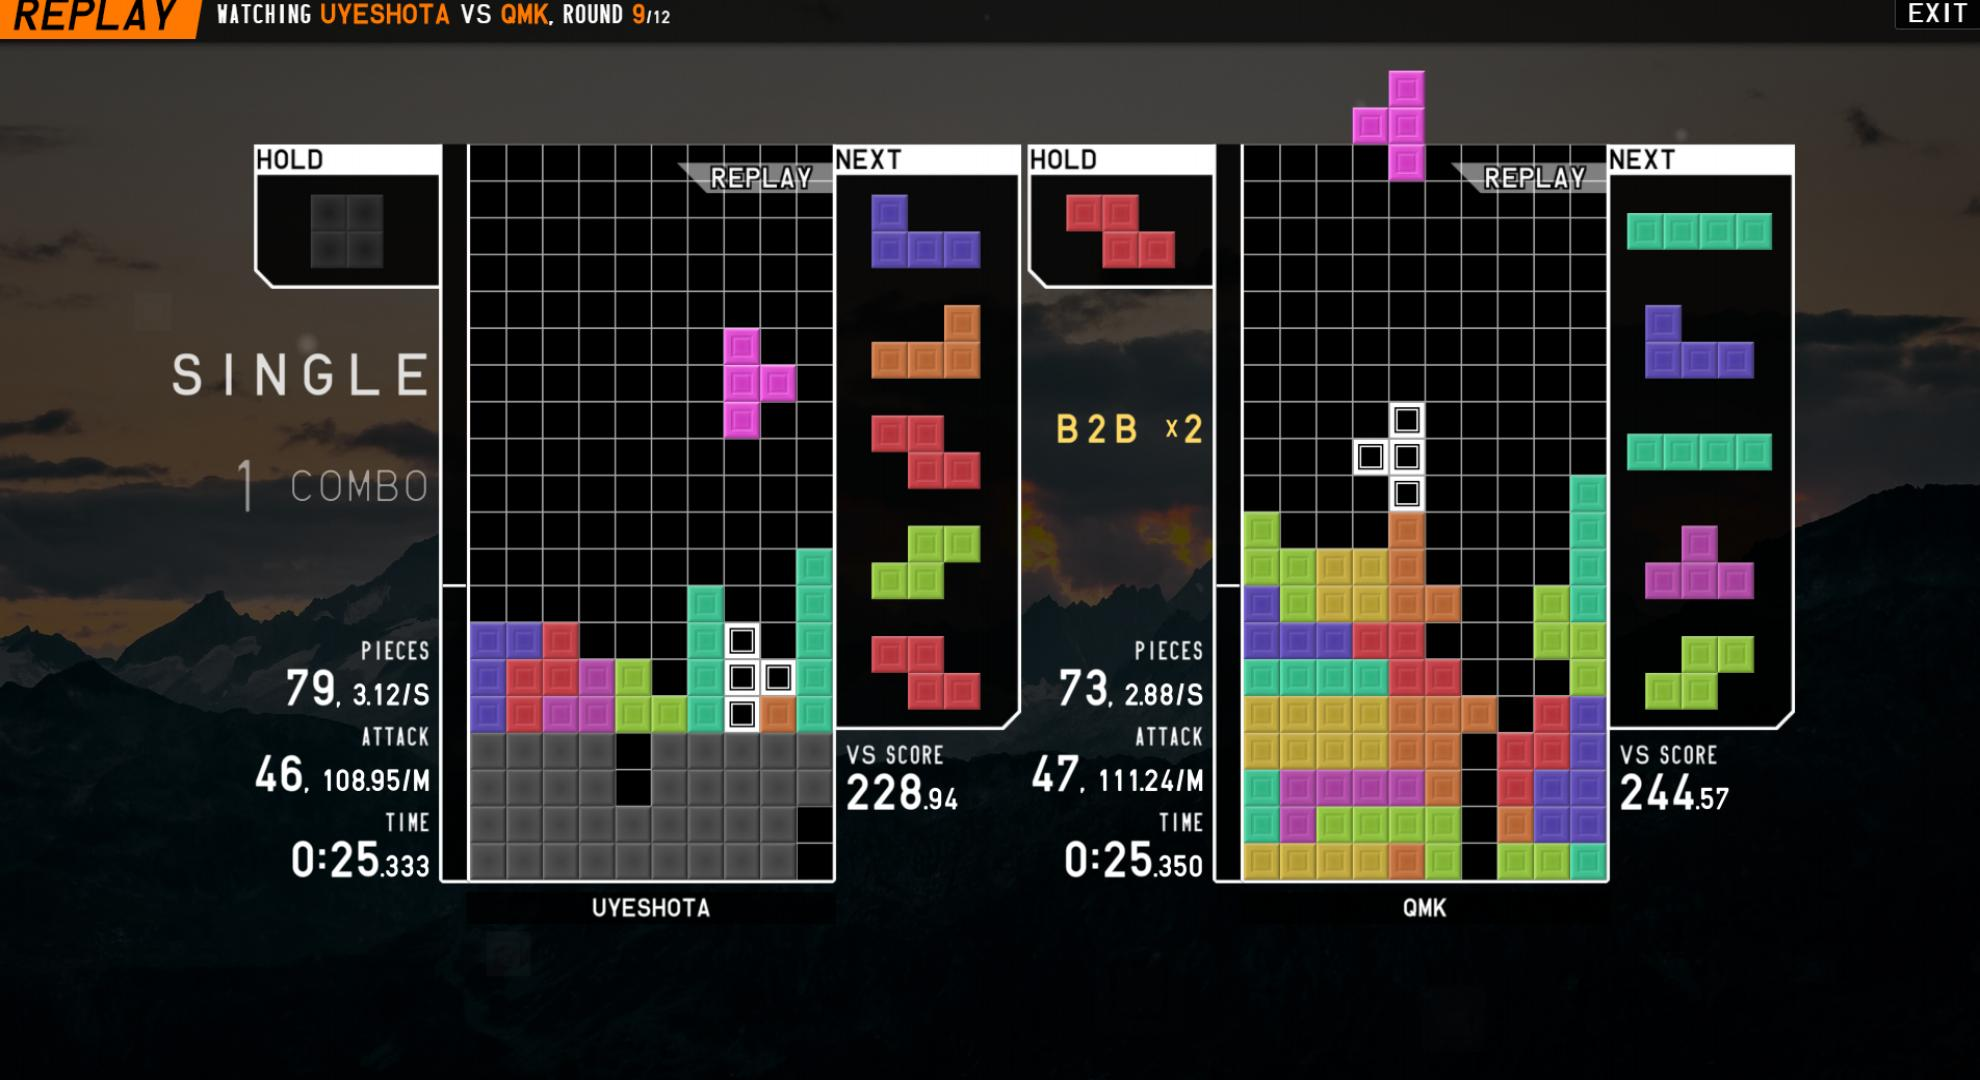tspin: (1463, 618, 1574, 732)
